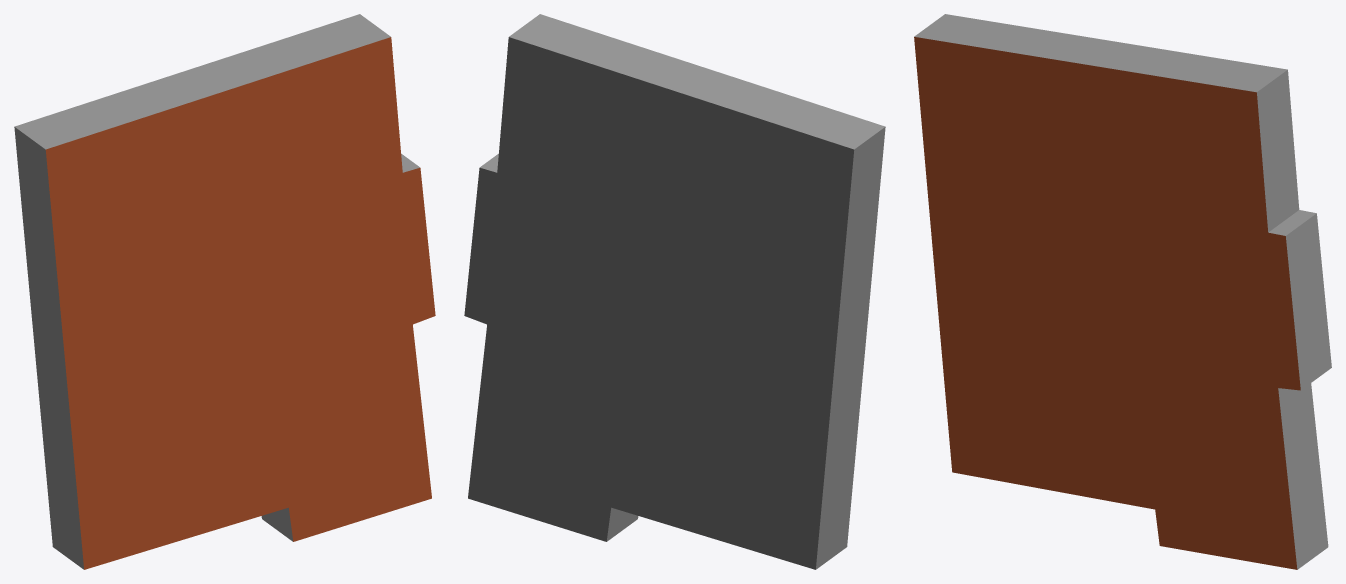
File: construction_0673_assumed_A_Casa_h6m.obj
3 renders of one model, left to right at view 1: azimuth 30°, elevation 25°; view 2: azimuth 150°, elevation 25°; view 3: azimuth 330°, elevation 25°, orthographic.
Parts seen in each view (by area): view 1: construction_0673_assumed_A_Casa; view 2: construction_0673_assumed_A_Casa; view 3: construction_0673_assumed_A_Casa.
Boxes of the visible parts, x1,y1,x2,y2 form: construction_0673_assumed_A_Casa: (14,14,435,569); construction_0673_assumed_A_Casa: (464,14,885,569); construction_0673_assumed_A_Casa: (914,14,1331,569).
Bounding box in the file's own units: 43.07 × 50.79 × 6.
